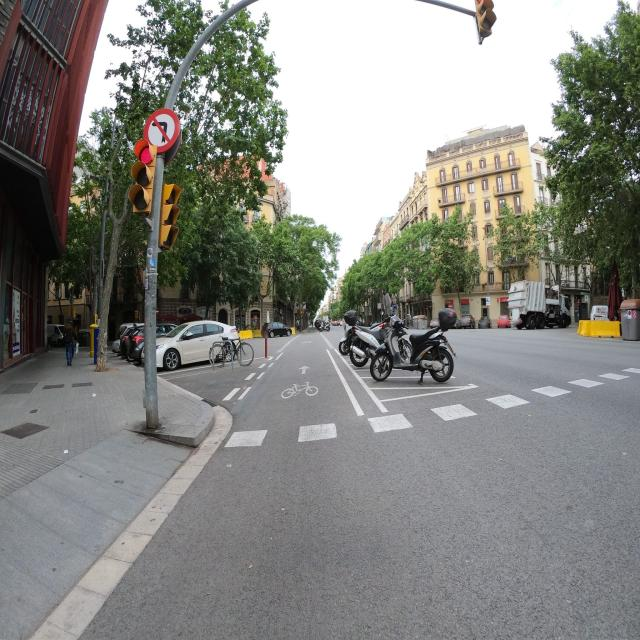bike: (369, 322, 455, 383), (220, 328, 254, 366)
car: (144, 318, 238, 372), (126, 321, 178, 366), (114, 322, 142, 356), (46, 322, 66, 348), (264, 321, 293, 337), (76, 327, 91, 348), (458, 313, 477, 329), (322, 320, 331, 332)
